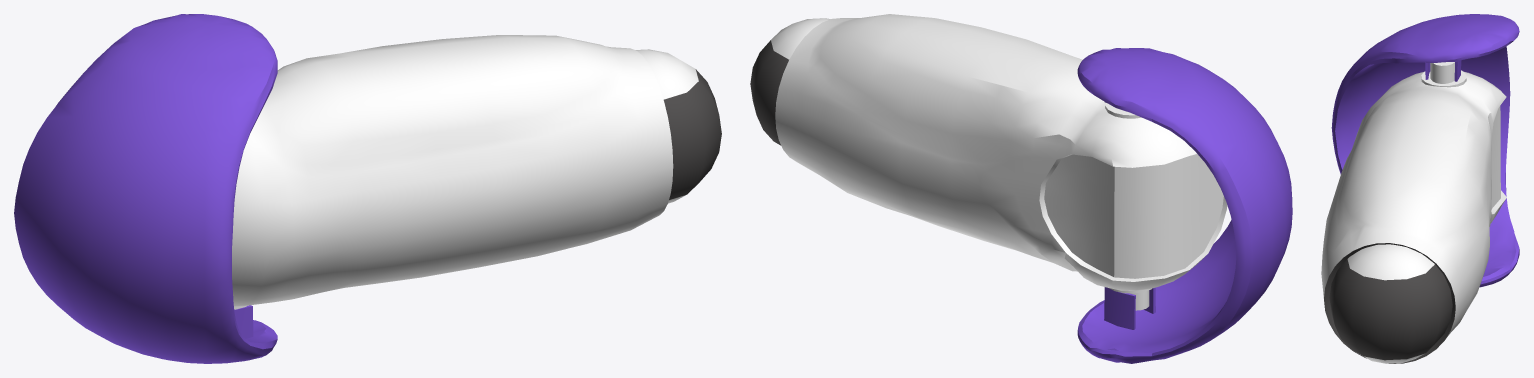
File: RShoulderRoll.dae
The picture shows the model from 3 angles, left to right: view 1: azimuth 30°, elevation 25°; view 2: azimuth 150°, elevation 25°; view 3: azimuth 270°, elevation 25°; orthographic projection. The views are drawn at different scales.
Parts seen in each view (by area): view 1: RShoulderRoll; view 2: RShoulderRoll; view 3: RShoulderRoll.
Part boxes in pixels (x1,y1,x2,y2): RShoulderRoll: (14, 14, 721, 363); RShoulderRoll: (750, 14, 1292, 363); RShoulderRoll: (1321, 14, 1519, 363).
Size of the model in its own units: 1.7 by 0.5942 by 0.8169.
Materials: 1 (1 with a texture image).
